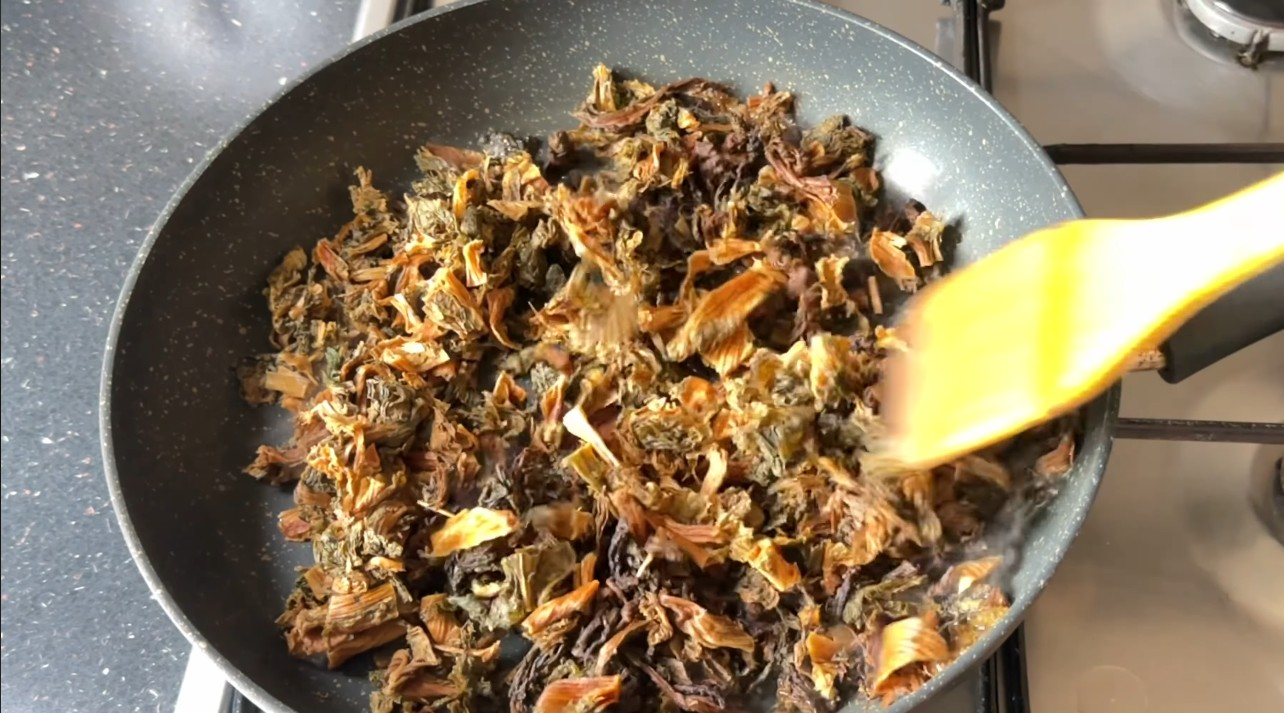gundruk: (227, 95, 980, 702)
